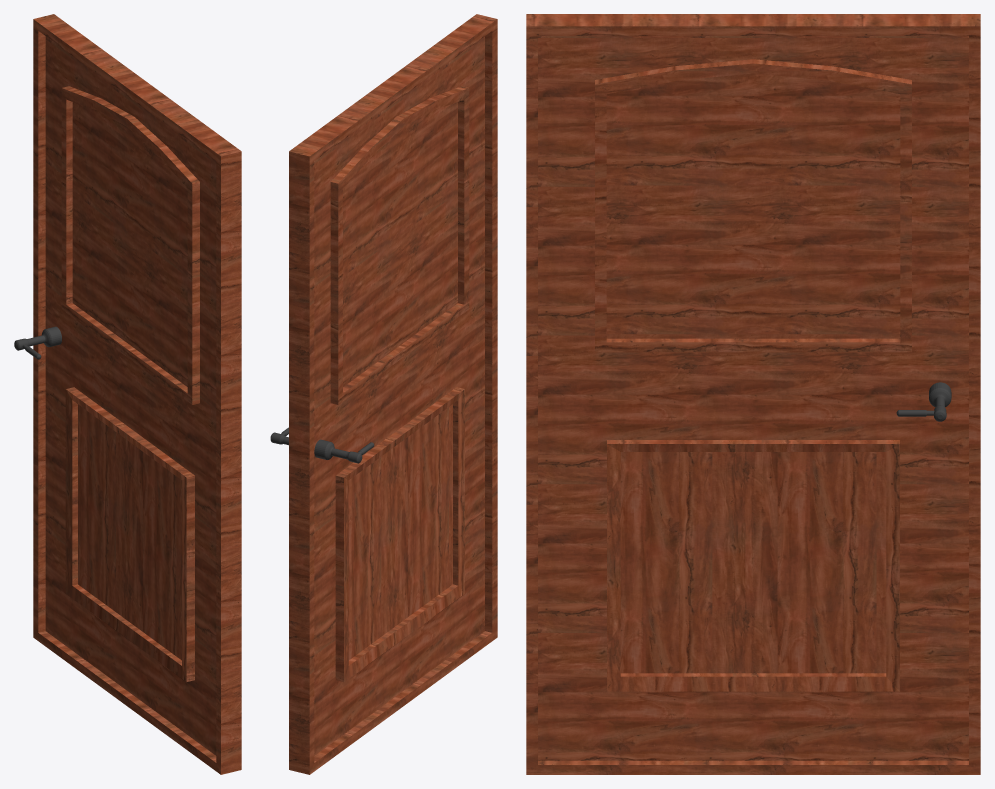
File: normalDoor.fbx
The picture shows the model from 3 angles, left to right: view 1: azimuth 30°, elevation 25°; view 2: azimuth 150°, elevation 25°; view 3: azimuth 270°, elevation 25°; orthographic projection. The views are drawn at different scales.
Visible parts, largest first — view 1: door:Mesh; view 2: door:Mesh; view 3: door:Mesh.
Boxes of the visible parts, x1,y1,x2,y2 form: door:Mesh: [14, 14, 241, 774]; door:Mesh: [270, 14, 497, 774]; door:Mesh: [526, 14, 980, 774].
Bounding box in the file's own units: 2.14 × 14.16 × 7.79.
2 materials, 1 textured.
